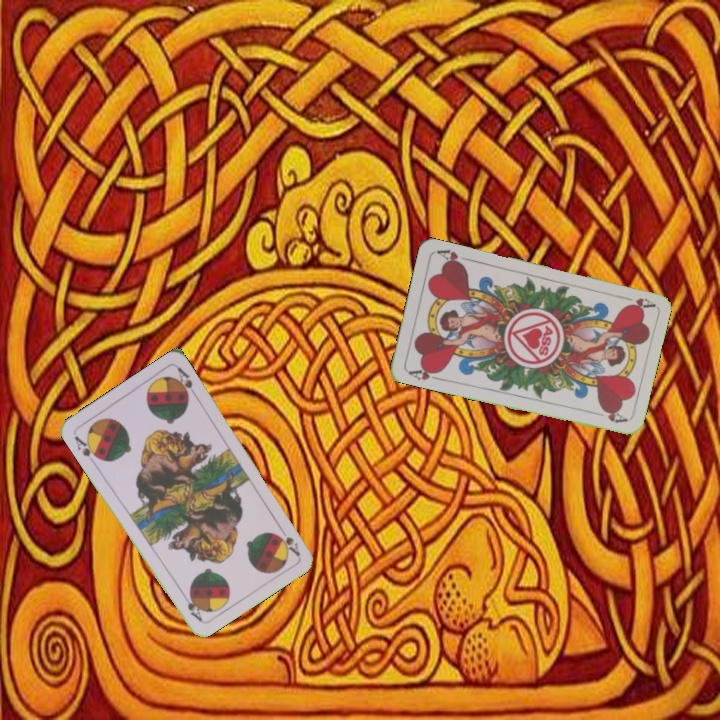HA: (404, 363, 444, 383), (616, 292, 656, 312)
SA: (274, 522, 303, 559), (70, 432, 103, 462)
